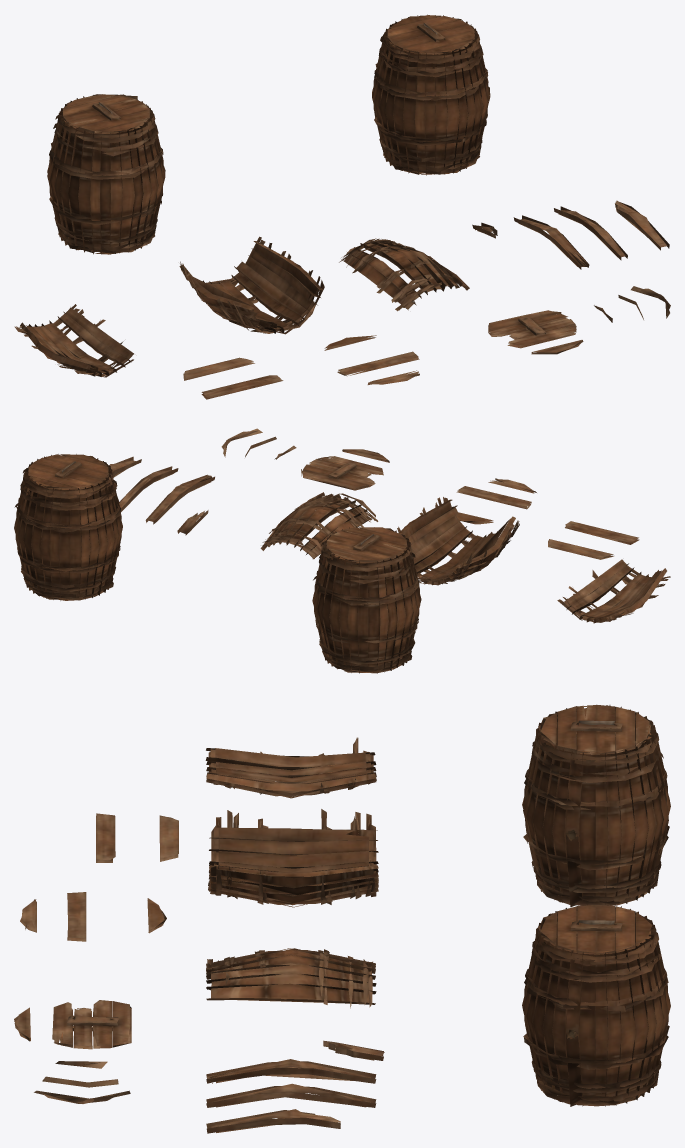
File: wooden_barrels_01.gltf
3 views of the same model, one above another, from view 1: azimuth 30°, elevation 25°; view 2: azimuth 150°, elevation 25°; view 3: azimuth 270°, elevation 25° (orthographic). The views are drawn at different scales.
Visible parts, largest first — view 1: wooden_barrels_01; view 2: wooden_barrels_01; view 3: wooden_barrels_01.
Part boxes in pixels (left/top/right/bottom): wooden_barrels_01: left=14, top=14, right=670, bottom=399; wooden_barrels_01: left=14, top=428, right=670, bottom=673; wooden_barrels_01: left=14, top=704, right=670, bottom=1133.
Bounding box in the file's own units: 4.44 × 0.9558 × 3.36.
Materials: 1 (1 with a texture image).
